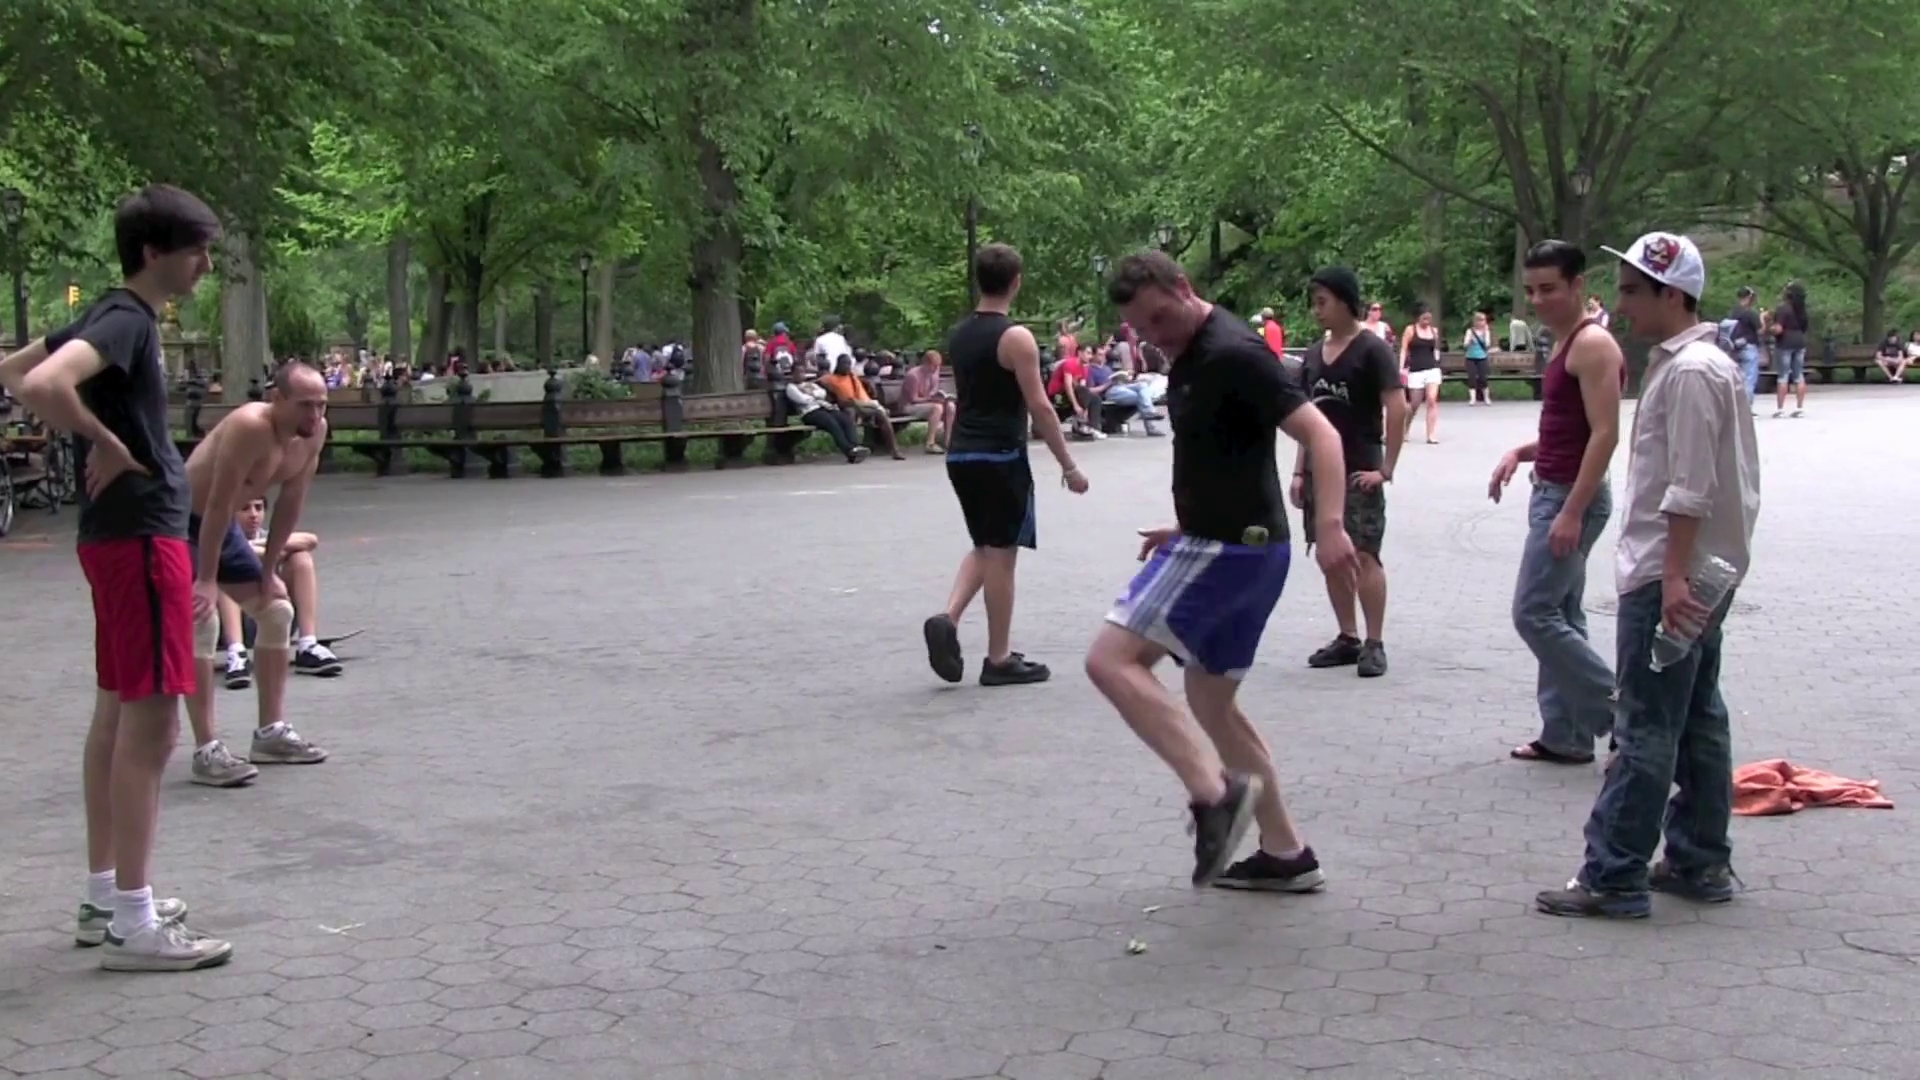person: (3, 185, 233, 974), (1083, 250, 1363, 894), (1534, 232, 1763, 921), (924, 244, 1093, 687), (1487, 240, 1627, 765), (181, 364, 332, 786), (1289, 267, 1408, 677)
